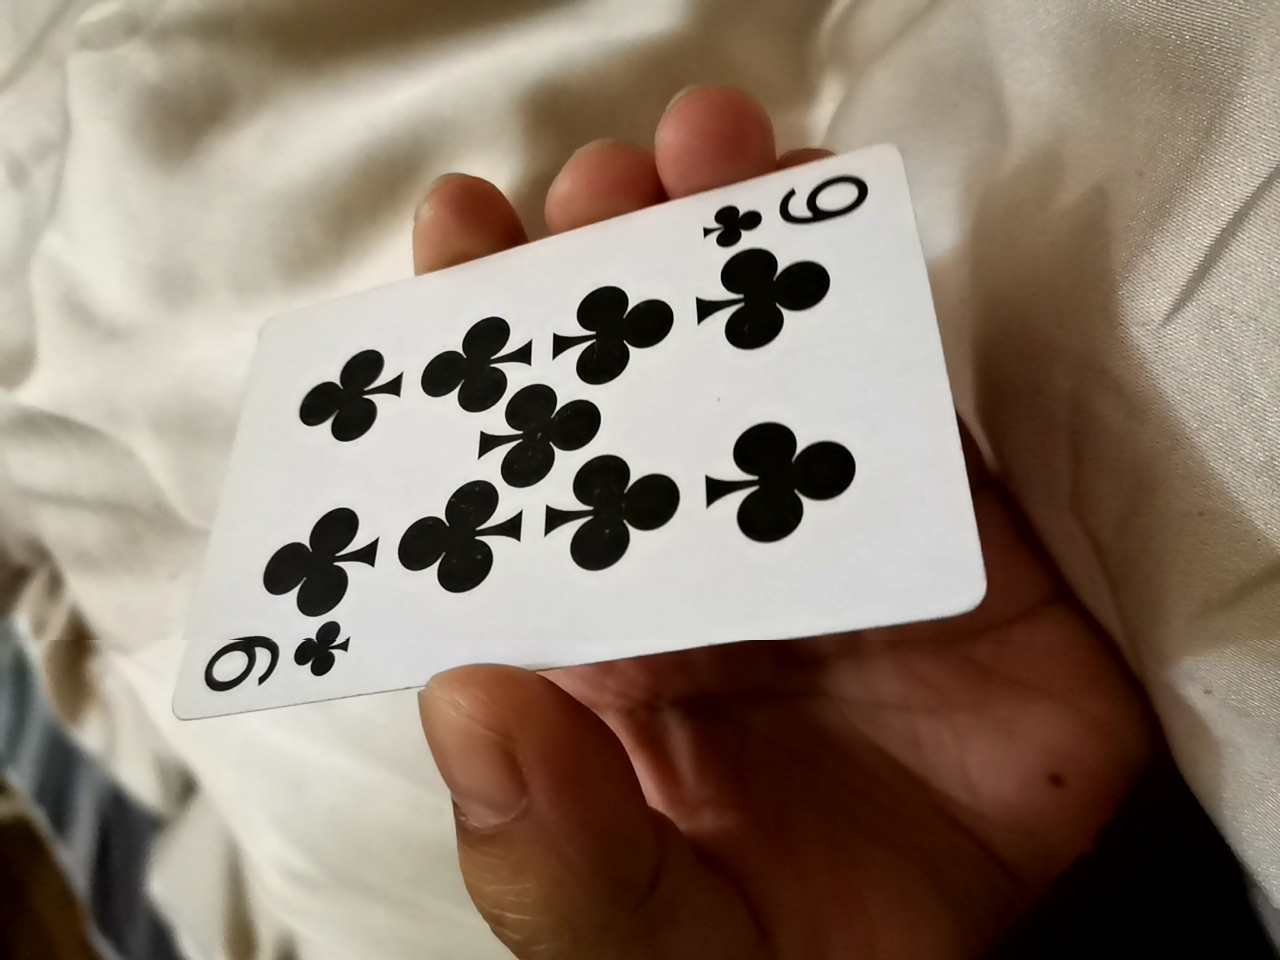mh 9: (177, 147, 985, 702)
